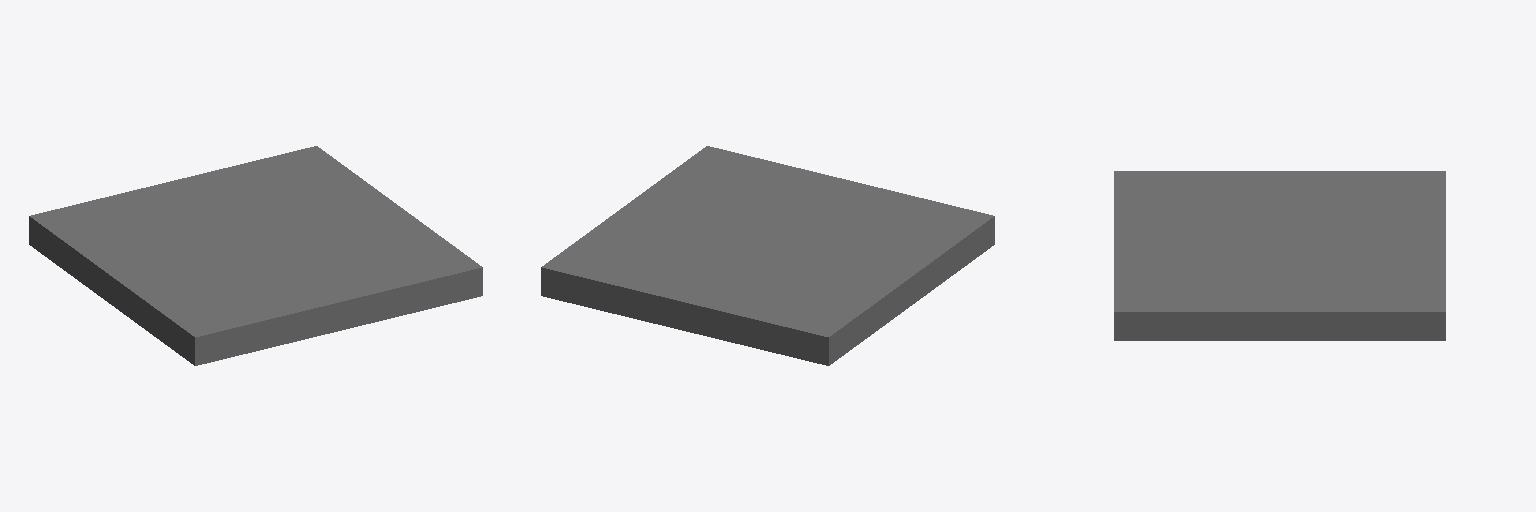
File: table.obj
3 views of the same model, side by side, from view 1: azimuth 30°, elevation 25°; view 2: azimuth 150°, elevation 25°; view 3: azimuth 270°, elevation 25° (orthographic).
Parts seen in each view (by area): view 1: pCube3; view 2: pCube3; view 3: pCube3.
Part boxes in pixels (x1,y1,x2,y2): pCube3: (29,146,482,365); pCube3: (541,146,994,365); pCube3: (1114,171,1445,340).
Size of the model in its own units: 12.73 by 1.21 by 12.73.